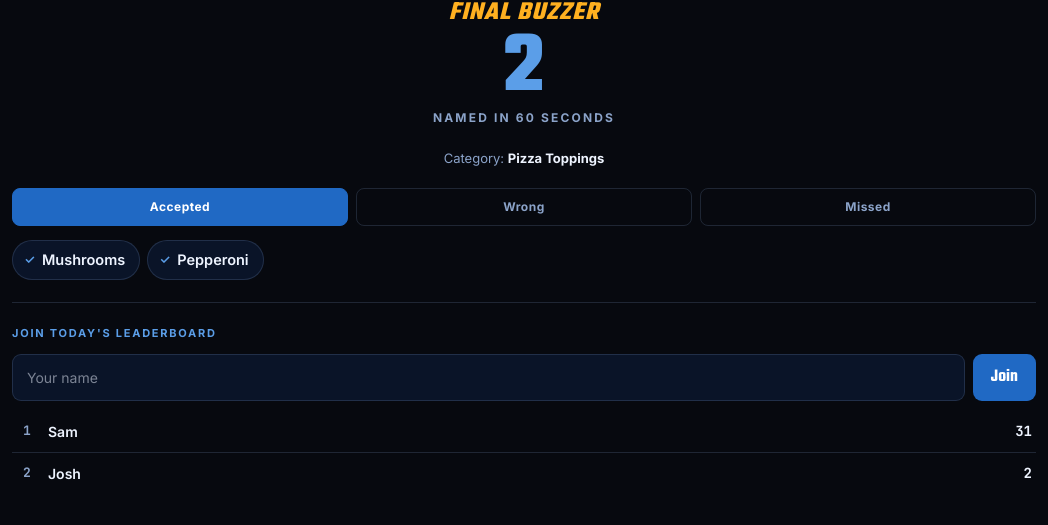
it: BallKnowledgeFinishResult › lists the answers on our list that were never named
The image size is (1048, 525).
Click the button "Missed" at (868, 207), box [700,188,1036,226]
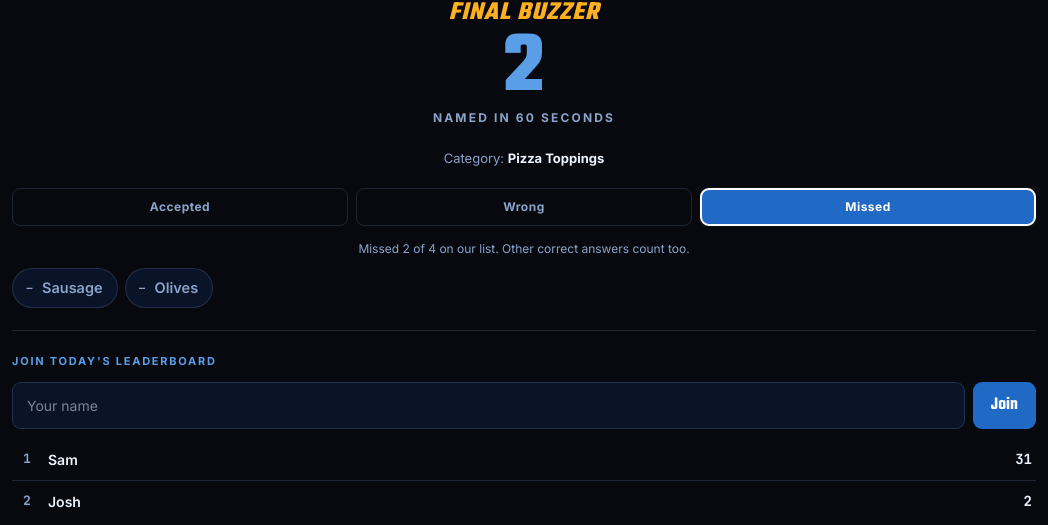
Expected: the text "Missed 2 of 4 on our list. Other correct answers count too." is shown, [358,241,690,256]
Expected: the text "Sausage" is shown, [42,277,103,299]
Expected: the text "Pepperoni" is gone
